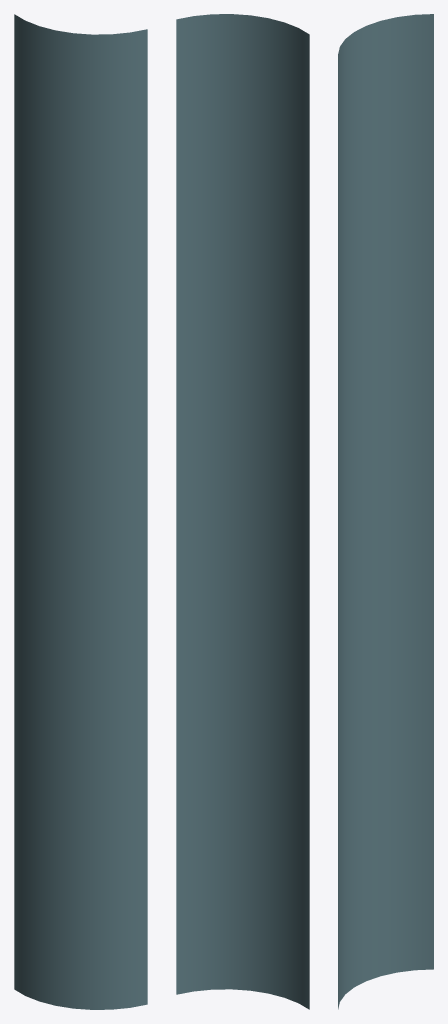
The model's file is W1_WallCornerS_Round1A.fbx.
The picture shows the model from 3 angles, left to right: view 1: azimuth 30°, elevation 25°; view 2: azimuth 210°, elevation 25°; view 3: azimuth 270°, elevation 25°; orthographic projection. The views are drawn at different scales.
Parts seen in each view (by area): view 1: W1_WallCornerS_Round1A.001; view 2: W1_WallCornerS_Round1A.001; view 3: W1_WallCornerS_Round1A.001.
Boxes of the visible parts, x1,y1,x2,y2 form: W1_WallCornerS_Round1A.001: (14,14,147,1009); W1_WallCornerS_Round1A.001: (176,14,309,1009); W1_WallCornerS_Round1A.001: (338,14,433,1009).
Size of the model in its own units: 0.2 by 2.2 by 0.2.
